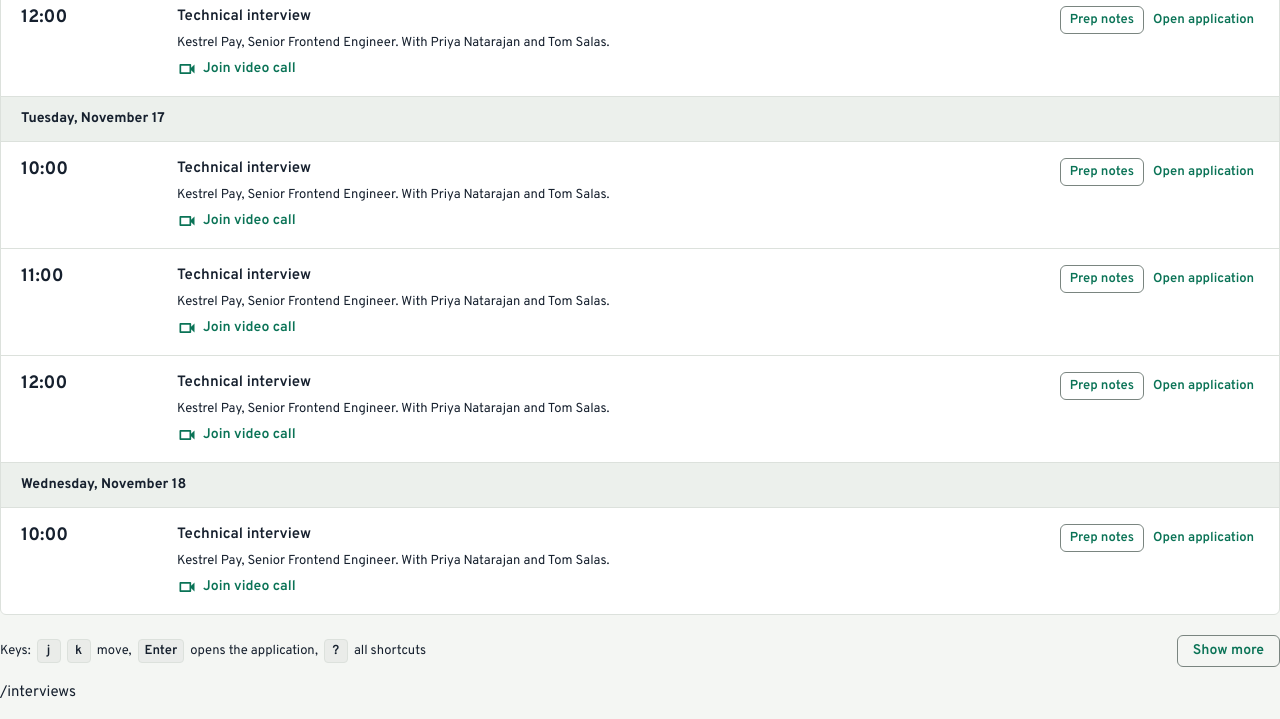
InterviewsPage › states (DESIGN_SPEC §7) › Show more follows the cursor
(page scrolled)
Expected: the text "Thursday, November 19" is not shown
Click the button "Show more". click: (1228, 651)
box: left=1177, top=635, right=1279, bottom=667
(page scrolled)
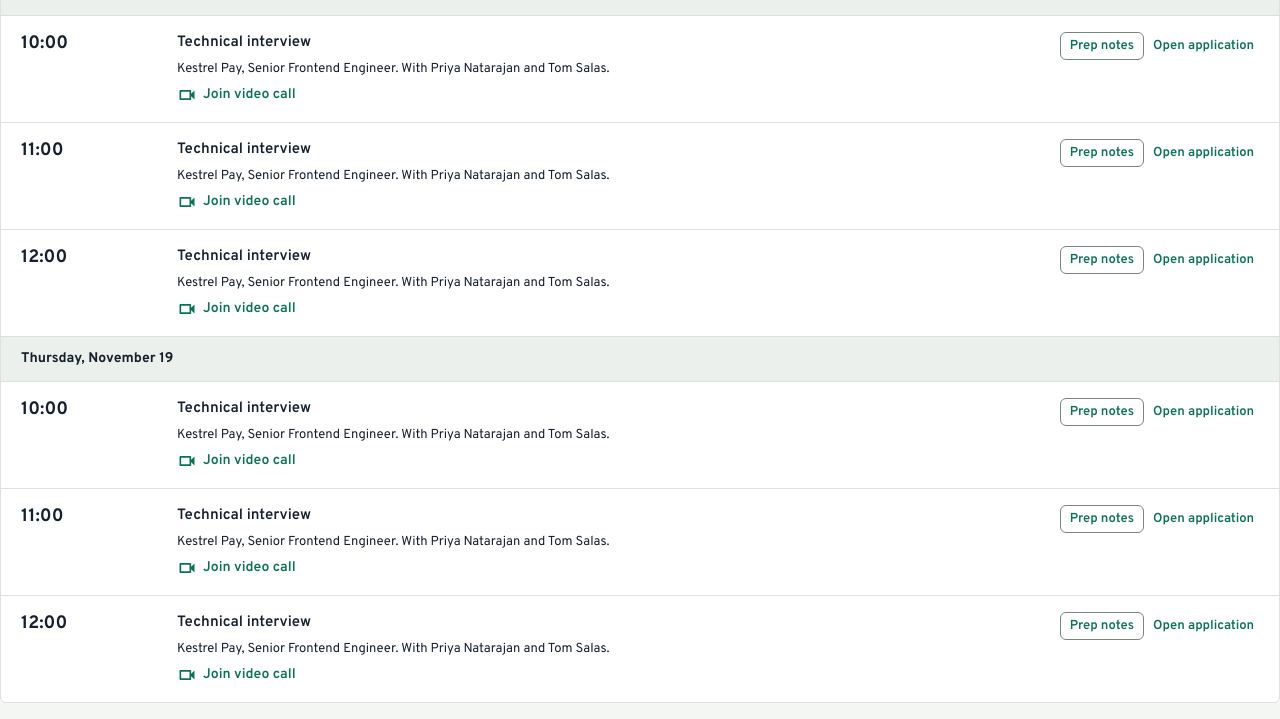
Expected: the heading "Thursday, November 19" is shown, left=1, top=337, right=1279, bottom=381
Expected: the button "Show more" is gone
